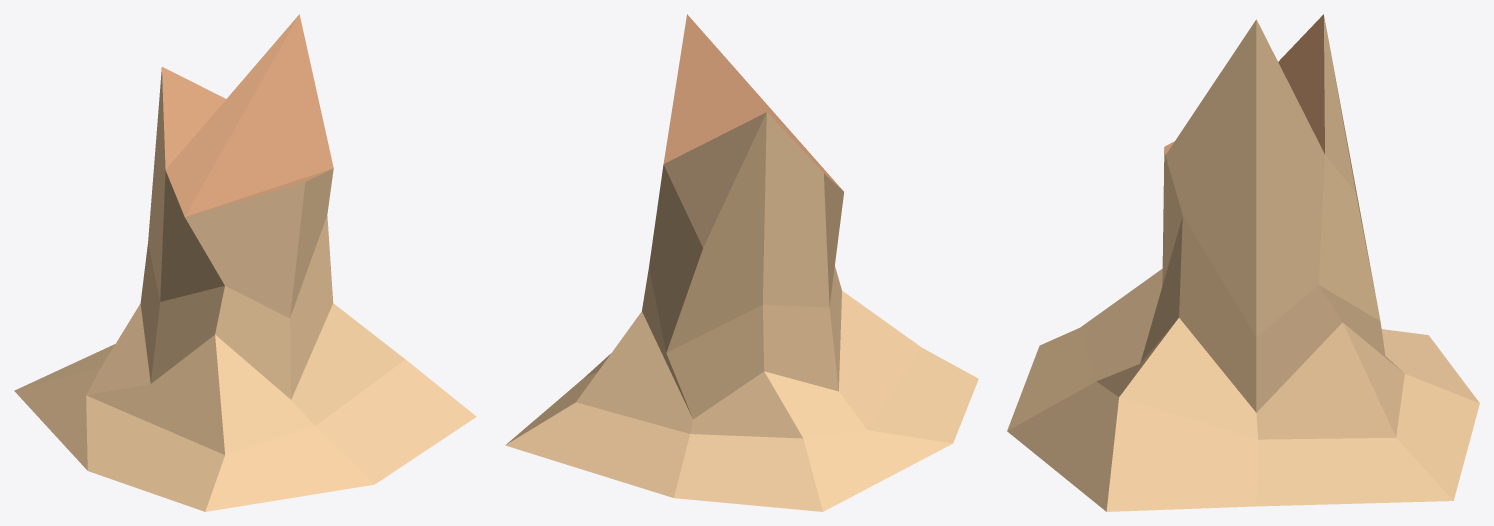
Rendered from Dead Tree 8.fbx.
3 renders of one model, left to right at view 1: azimuth 30°, elevation 25°; view 2: azimuth 150°, elevation 25°; view 3: azimuth 270°, elevation 25°, orthographic. The views are drawn at different scales.
Parts seen in each view (by area): view 1: Dead Tree 8; view 2: Dead Tree 8; view 3: Dead Tree 8.
Boxes of the visible parts, <box> form: Dead Tree 8: <box>14,14,476,511</box>; Dead Tree 8: <box>505,14,978,511</box>; Dead Tree 8: <box>1007,14,1479,511</box>.
Bounding box in the file's own units: 85.11 × 89.28 × 88.69.
